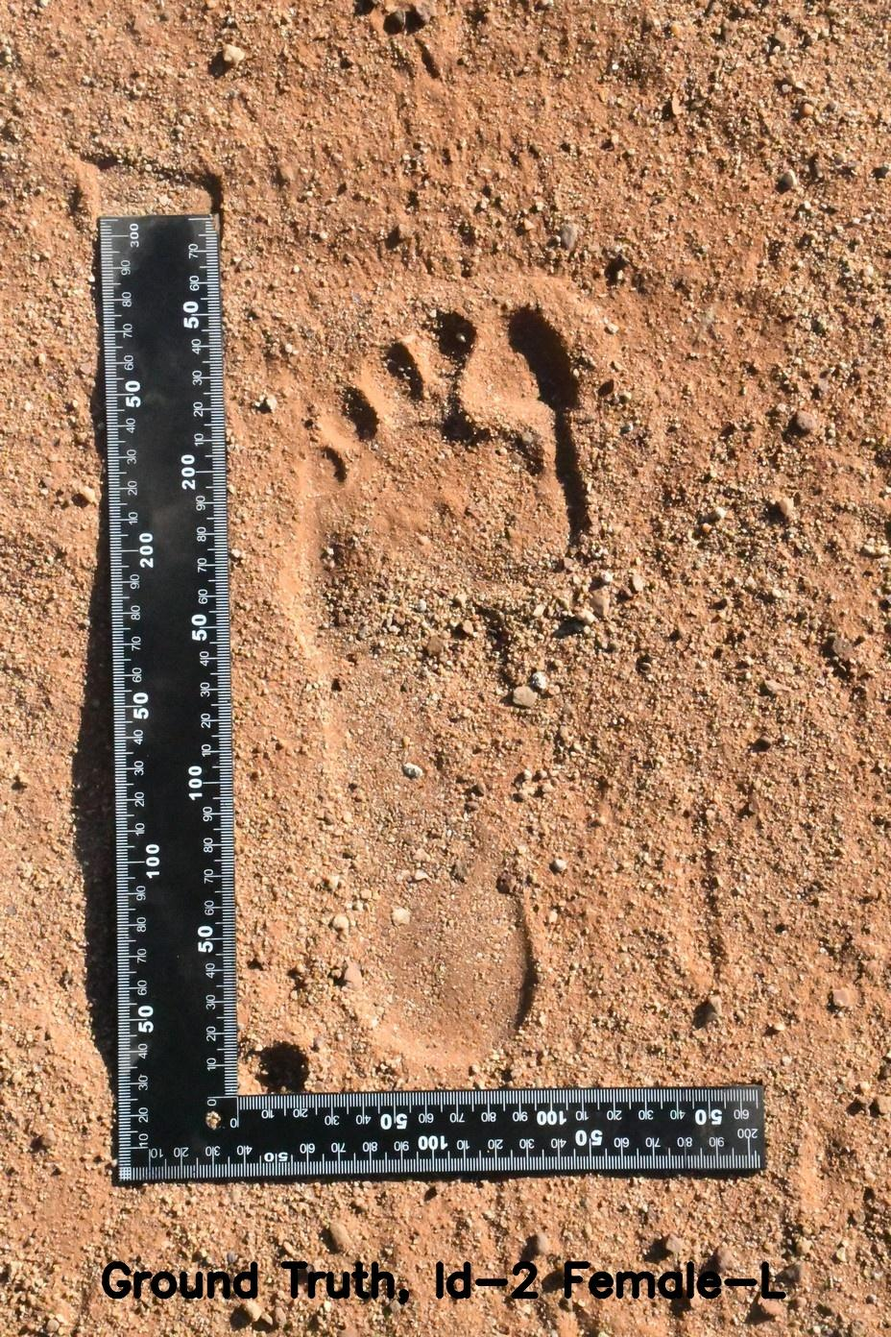human_foot_print: (282, 241, 641, 1069)
